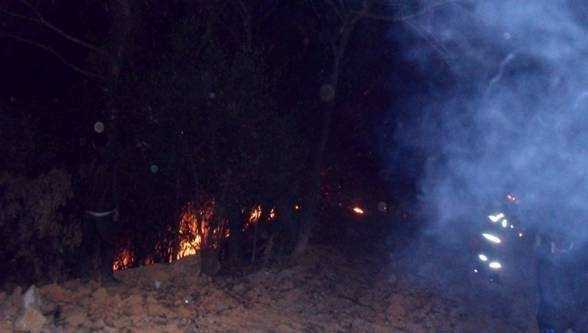fire: (169, 198, 226, 261), (244, 200, 278, 225), (109, 246, 135, 272)
